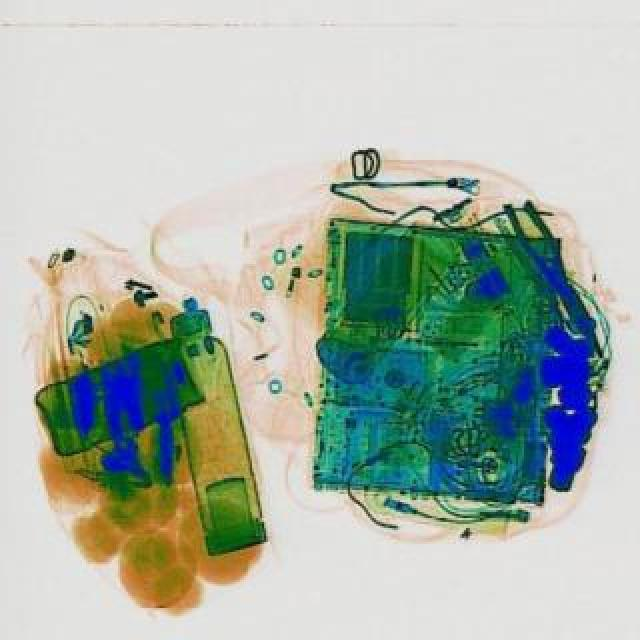wrench: (498, 190, 614, 362)
